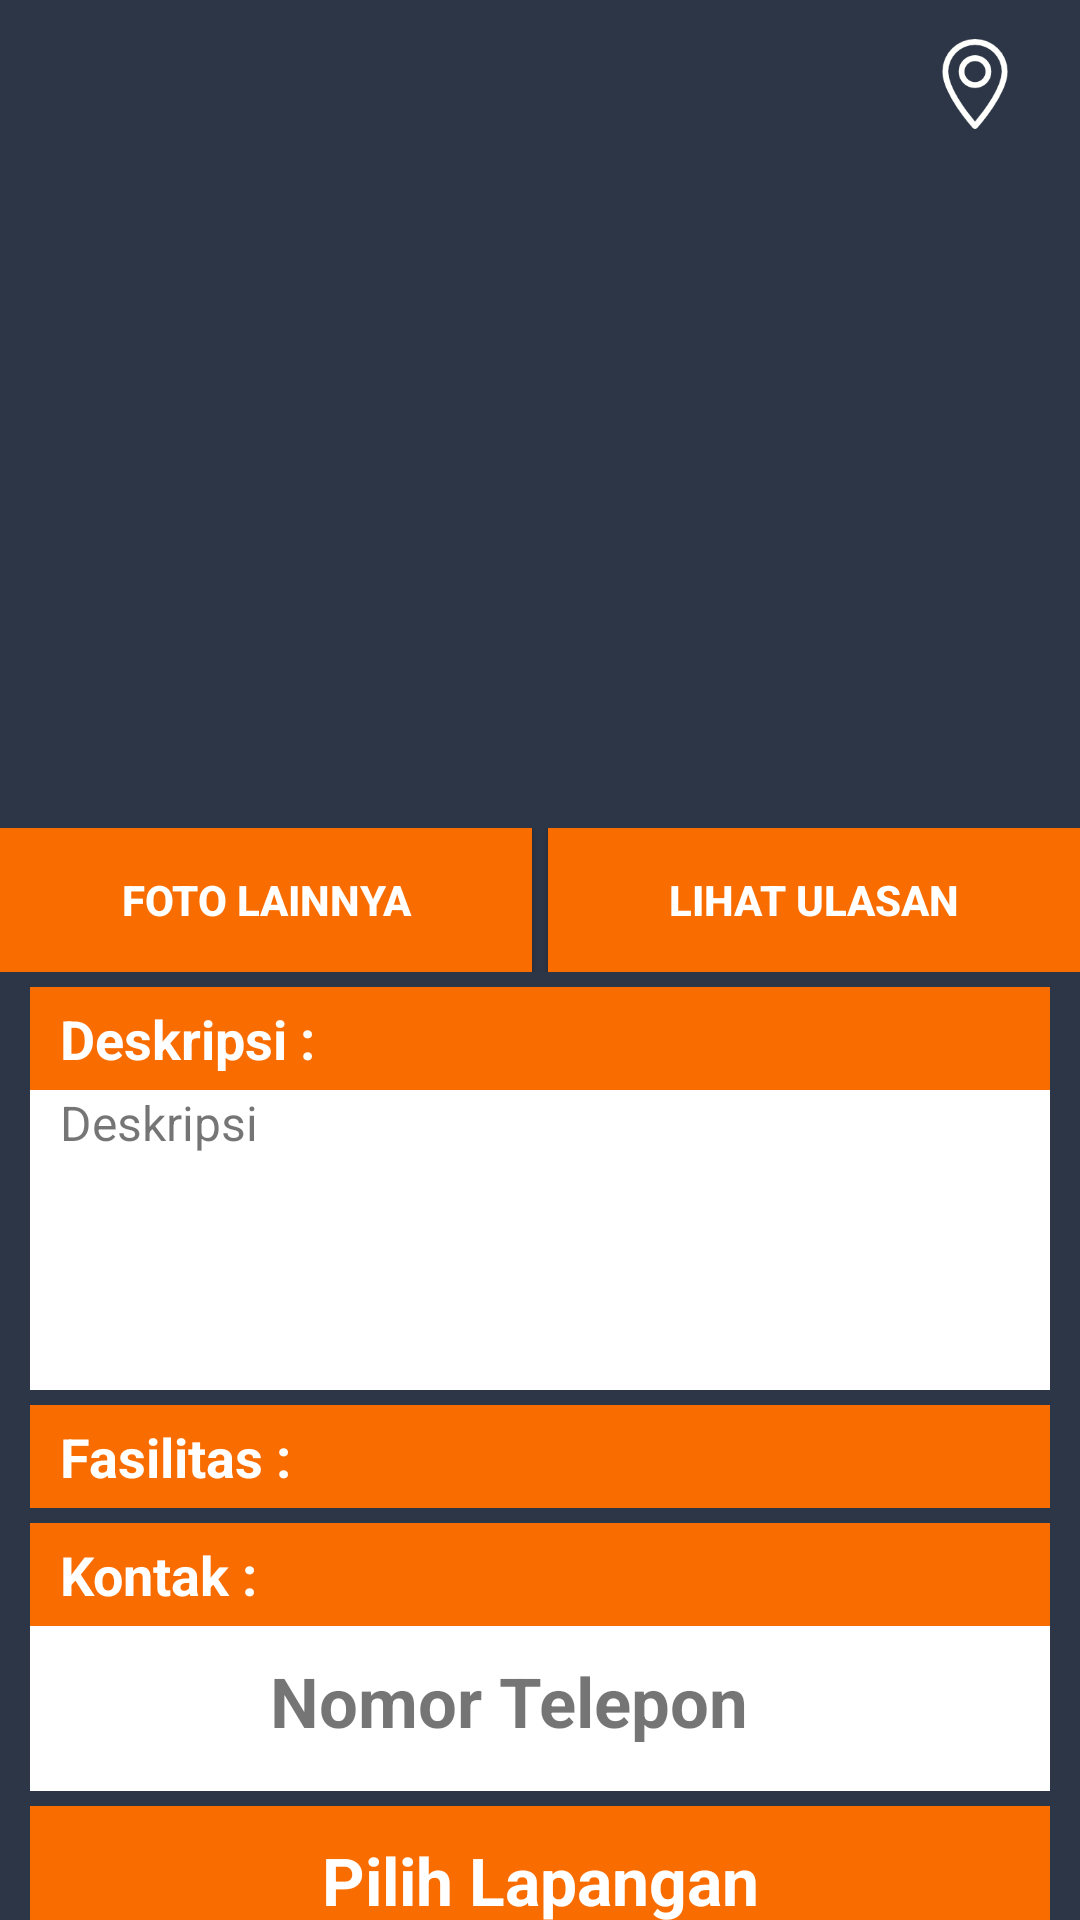

Named icons in this screenshot (1080x1920) and their bounding boxes, region(x1, y1, x2, y2):
maps: region(942, 39, 1008, 129)
